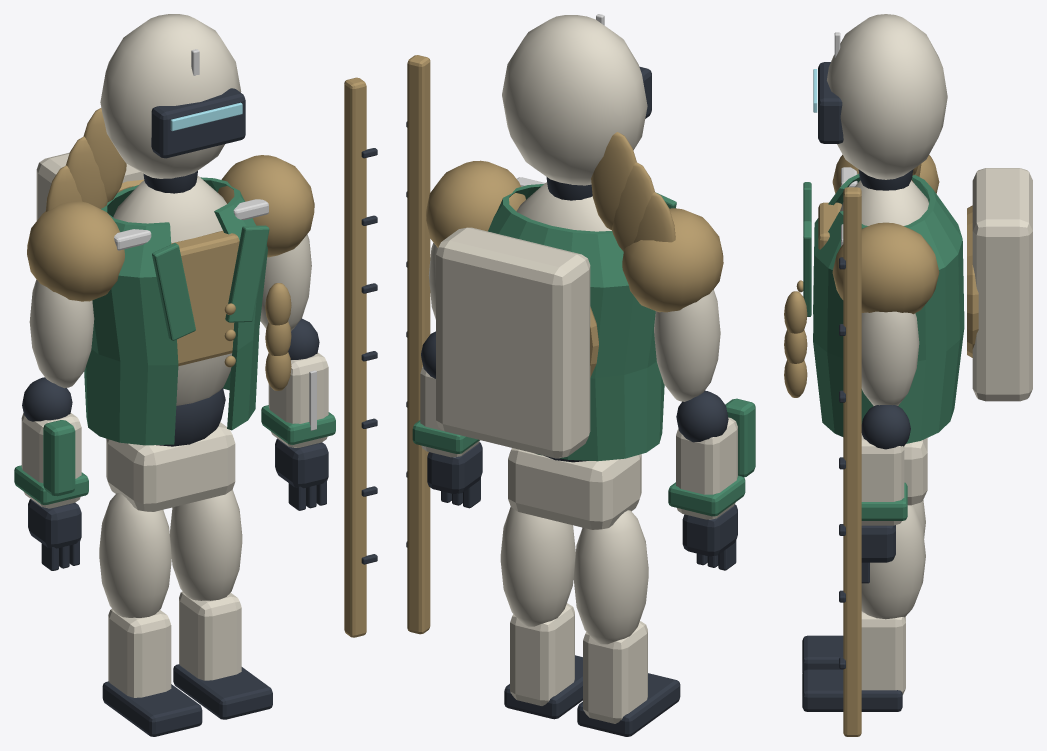
Rendered from growth_measurement.glb.
3 views of the same model, side by side, from view 1: azimuth 30°, elevation 25°; view 2: azimuth 150°, elevation 25°; view 3: azimuth 270°, elevation 25° (orthographic). The views are drawn at different scales.
Visible parts, largest first — view 1: Botanical survey tunic, Helmet, Measurement staff, Pelvis, Shoulder R, Thigh R, Thigh L, Articulated thorax, Sternum shield, Shoulder L, Upper arm R, Shin R (+27 smaller); view 2: Botanical field pack, Helmet, Botanical survey tunic, Measurement staff, Pelvis, Thigh R, Thigh L, Shoulder R, Upper arm R, Shoulder L, Shin L, Shin R (+15 smaller); view 3: Botanical survey tunic, Helmet, Botanical field pack, Measurement staff, Shoulder L, Upper arm L, Thigh L, Shin L, Foot L, Bracer L, Articulated thorax, Elbow L (+13 smaller).
Boxes of the visible parts, <box> form: Botanical survey tunic: <box>84,177,267,445</box>; Helmet: <box>100,14,241,178</box>; Measurement staff: <box>344,77,366,637</box>; Pelvis: <box>106,422,235,511</box>; Shoulder R: <box>27,201,124,301</box>; Thigh R: <box>99,493,171,617</box>; Thigh L: <box>170,490,242,600</box>; Articulated thorax: <box>113,176,231,405</box>; Sternum shield: <box>171,230,239,366</box>; Shoulder L: <box>217,155,314,257</box>; Upper arm R: <box>29,279,94,388</box>; Shin R: <box>108,609,171,697</box>; Botanical field pack: <box>436,227,590,458</box>; Helmet: <box>502,15,647,185</box>; Botanical survey tunic: <box>488,184,664,461</box>; Measurement staff: <box>407,55,430,634</box>; Pelvis: <box>508,448,641,529</box>; Thigh R: <box>573,510,648,644</box>; Thigh L: <box>500,507,575,626</box>; Shoulder R: <box>622,208,723,312</box>; Upper arm R: <box>654,289,720,401</box>; Shoulder L: <box>426,160,525,247</box>; Shin L: <box>510,603,574,705</box>; Shin R: <box>583,621,647,723</box>; Botanical survey tunic: <box>813,174,964,443</box>; Helmet: <box>827,14,947,179</box>; Botanical field pack: <box>972,168,1032,401</box>; Measurement staff: <box>843,187,861,736</box>; Shoulder L: <box>832,222,939,314</box>; Upper arm L: <box>861,311,919,405</box>; Thigh L: <box>861,505,925,619</box>; Shin L: <box>861,611,905,694</box>; Foot L: <box>802,669,902,711</box>; Bracer L: <box>861,433,904,525</box>; Articulated thorax: <box>840,180,928,225</box>; Elbow L: <box>861,405,910,449</box>.
Size of the model in its own units: 1.13 by 2.2 by 0.745.
